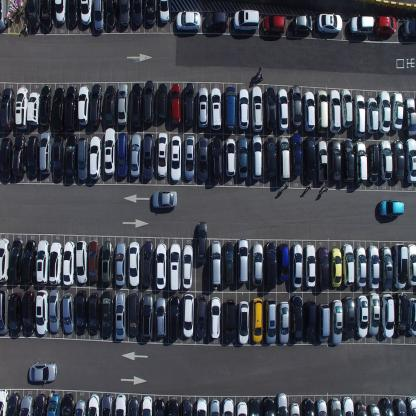car: (21, 238, 37, 284), (8, 238, 24, 284), (393, 241, 408, 289), (380, 293, 395, 338), (0, 86, 15, 131), (35, 289, 49, 336), (366, 244, 380, 290), (64, 85, 78, 131), (62, 240, 76, 285), (141, 240, 154, 288), (64, 132, 77, 180), (232, 8, 259, 31), (316, 12, 343, 35), (48, 241, 62, 285), (14, 86, 28, 130), (12, 133, 26, 177), (142, 132, 155, 179), (89, 83, 103, 126), (36, 240, 49, 286), (22, 290, 35, 336), (0, 136, 13, 182), (291, 292, 303, 341), (114, 291, 126, 340), (29, 361, 57, 382), (354, 142, 368, 184), (392, 139, 406, 181), (342, 294, 355, 339), (395, 291, 408, 336), (75, 239, 88, 284), (48, 288, 61, 333), (9, 291, 22, 336), (89, 135, 102, 180), (237, 236, 249, 284), (264, 296, 276, 344), (128, 240, 140, 288), (404, 136, 416, 184), (251, 84, 263, 132), (379, 139, 393, 180), (38, 85, 52, 126), (342, 242, 355, 286), (380, 245, 393, 289), (328, 89, 341, 133), (175, 10, 201, 32), (210, 241, 222, 288), (170, 135, 182, 182), (101, 290, 113, 337), (304, 135, 316, 182), (52, 134, 64, 181), (390, 91, 404, 131), (303, 298, 316, 341), (183, 292, 195, 338), (184, 134, 196, 180), (156, 132, 168, 178), (210, 136, 222, 182), (224, 298, 236, 344), (251, 297, 263, 343), (290, 242, 302, 288), (356, 293, 368, 339), (75, 289, 87, 335), (278, 136, 290, 182), (130, 132, 142, 178), (130, 82, 142, 128), (117, 132, 129, 178), (53, 86, 65, 132), (104, 126, 115, 176), (349, 15, 374, 37), (62, 292, 75, 334), (196, 293, 208, 338), (182, 244, 194, 289), (317, 245, 329, 290), (368, 291, 380, 336), (101, 240, 113, 285), (316, 138, 328, 183), (342, 138, 354, 183), (353, 93, 365, 138), (316, 89, 328, 134), (264, 86, 276, 131), (77, 136, 89, 181), (39, 130, 51, 175), (170, 243, 181, 292), (142, 292, 153, 341), (225, 85, 236, 133), (155, 296, 167, 340), (196, 220, 208, 264), (355, 244, 367, 288), (278, 300, 290, 344), (290, 132, 302, 176), (378, 90, 390, 134), (290, 83, 302, 127), (277, 88, 289, 132), (143, 80, 155, 124), (116, 82, 128, 126), (317, 302, 330, 342), (403, 96, 416, 136), (340, 88, 353, 128), (156, 243, 167, 290), (169, 294, 180, 341), (0, 237, 11, 284), (26, 135, 38, 178), (265, 242, 276, 288), (331, 299, 342, 345), (262, 14, 285, 36), (88, 292, 100, 334), (303, 90, 315, 132), (104, 84, 116, 126), (183, 82, 194, 127), (238, 300, 249, 345), (115, 241, 126, 286), (128, 291, 139, 336), (378, 198, 404, 217), (330, 247, 342, 288), (170, 82, 181, 126), (210, 86, 221, 130), (252, 242, 263, 286), (305, 244, 316, 288), (237, 135, 248, 179), (330, 138, 341, 182), (156, 82, 168, 122), (367, 143, 379, 183), (205, 11, 229, 31), (152, 190, 177, 209), (223, 240, 234, 283), (238, 87, 249, 130), (210, 295, 221, 337), (88, 240, 99, 282), (265, 136, 276, 178), (78, 84, 89, 126), (375, 15, 397, 36), (252, 134, 262, 180), (366, 96, 378, 134), (27, 91, 40, 126), (278, 242, 289, 283), (198, 136, 208, 181), (225, 136, 236, 176), (292, 12, 312, 34), (198, 86, 208, 129), (0, 288, 9, 335), (27, 0, 40, 31), (93, 0, 105, 33), (41, 0, 53, 32), (46, 392, 61, 416), (400, 19, 416, 41), (6, 392, 21, 415), (79, 0, 92, 26), (19, 392, 33, 416), (106, 0, 118, 28), (61, 391, 74, 416), (67, 0, 79, 27), (408, 242, 415, 287), (408, 297, 416, 336), (87, 392, 100, 416), (34, 392, 47, 416), (145, 0, 157, 26), (119, 0, 130, 28), (132, 0, 143, 28), (54, 0, 66, 25), (101, 392, 113, 416), (262, 396, 276, 415), (341, 395, 354, 415), (277, 392, 288, 415), (159, 0, 170, 23), (0, 388, 9, 415), (74, 398, 87, 416), (0, 0, 7, 33), (394, 397, 406, 415), (381, 397, 393, 415), (329, 397, 341, 415), (303, 397, 315, 415), (222, 397, 234, 415), (166, 398, 178, 416), (127, 397, 139, 415), (355, 400, 368, 416), (406, 395, 416, 415), (142, 395, 152, 415), (316, 398, 327, 416), (209, 398, 220, 416), (196, 397, 207, 415), (154, 397, 165, 415), (236, 400, 248, 416), (250, 397, 260, 415), (182, 397, 192, 415), (368, 403, 380, 415), (290, 402, 300, 415)
